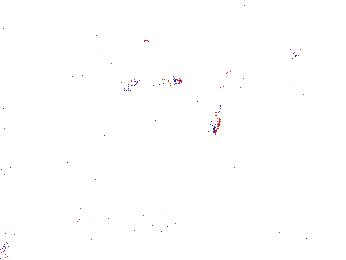glassfish: (203, 72, 226, 135)
red belly glassfish: (131, 34, 151, 45), (119, 44, 134, 57)
redtail glassfish: (127, 73, 185, 91)
